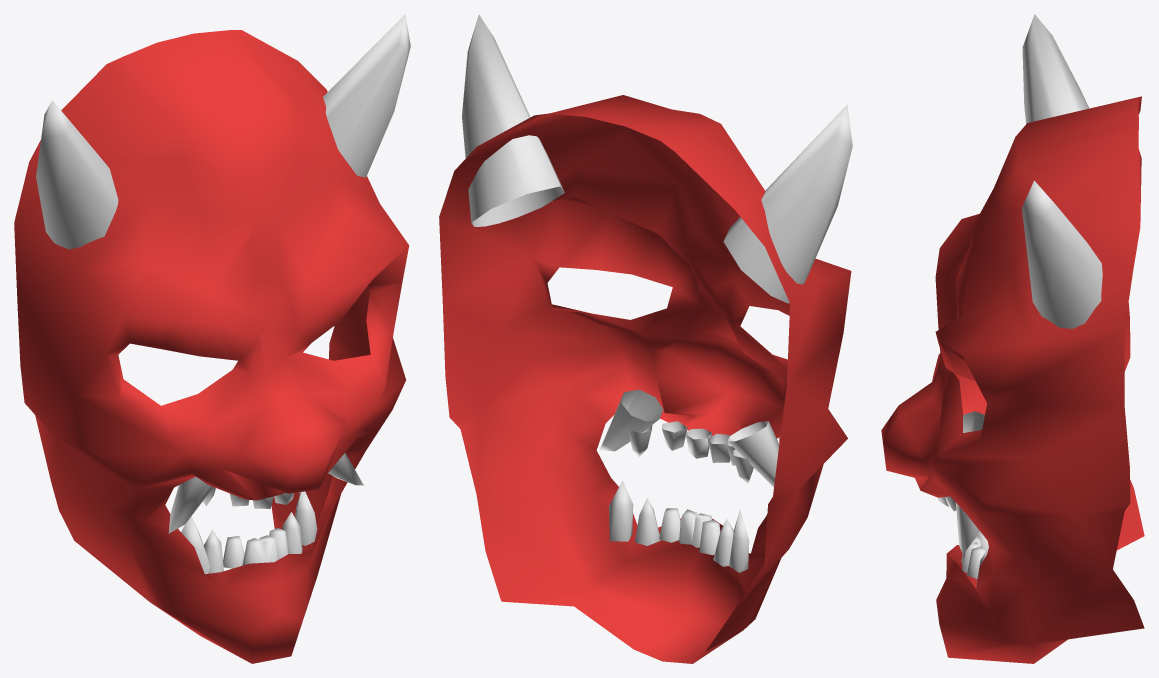
File: Oni.fbx
The picture shows the model from 3 angles, left to right: view 1: azimuth 30°, elevation 25°; view 2: azimuth 150°, elevation 25°; view 3: azimuth 270°, elevation 25°; orthographic projection. The views are drawn at different scales.
Visible parts, largest first — view 1: low_poly_Plane.004; view 2: low_poly_Plane.004; view 3: low_poly_Plane.004.
Boxes of the visible parts, box(x1,y1,x2,y2) form: low_poly_Plane.004: box(14, 14, 410, 663); low_poly_Plane.004: box(439, 14, 852, 663); low_poly_Plane.004: box(881, 14, 1144, 663).
Size of the model in its own units: 394 by 588 by 252.
